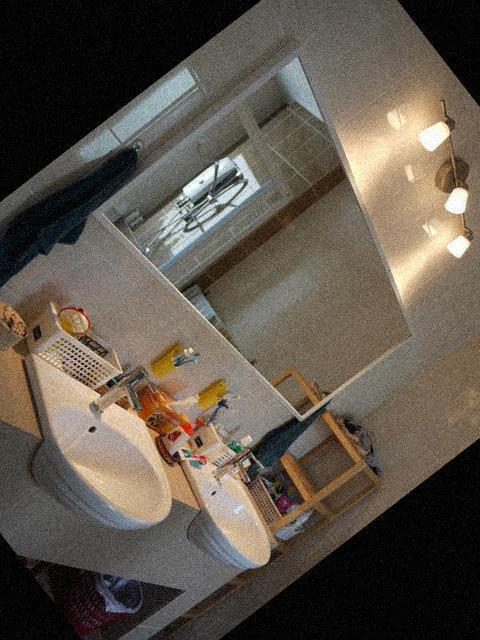Bote de Basura: (49, 540, 163, 640)
Lavamanos: (0, 293, 230, 574), (136, 424, 307, 601)
